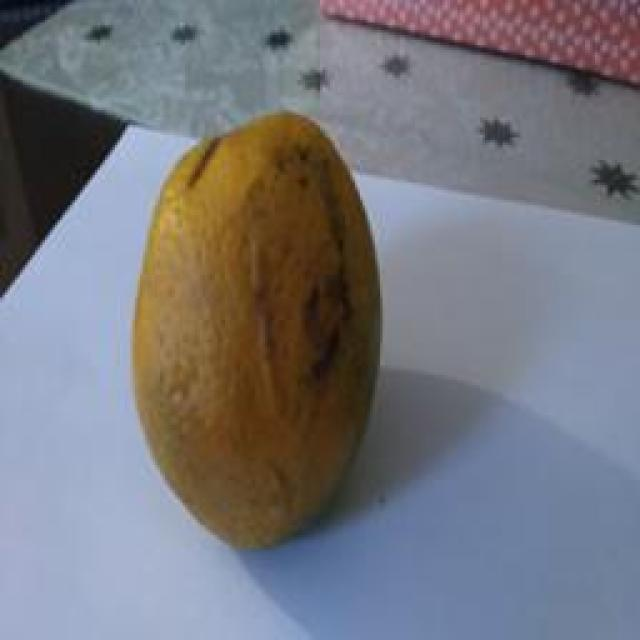Rotten_Orange: (94, 104, 396, 546)
